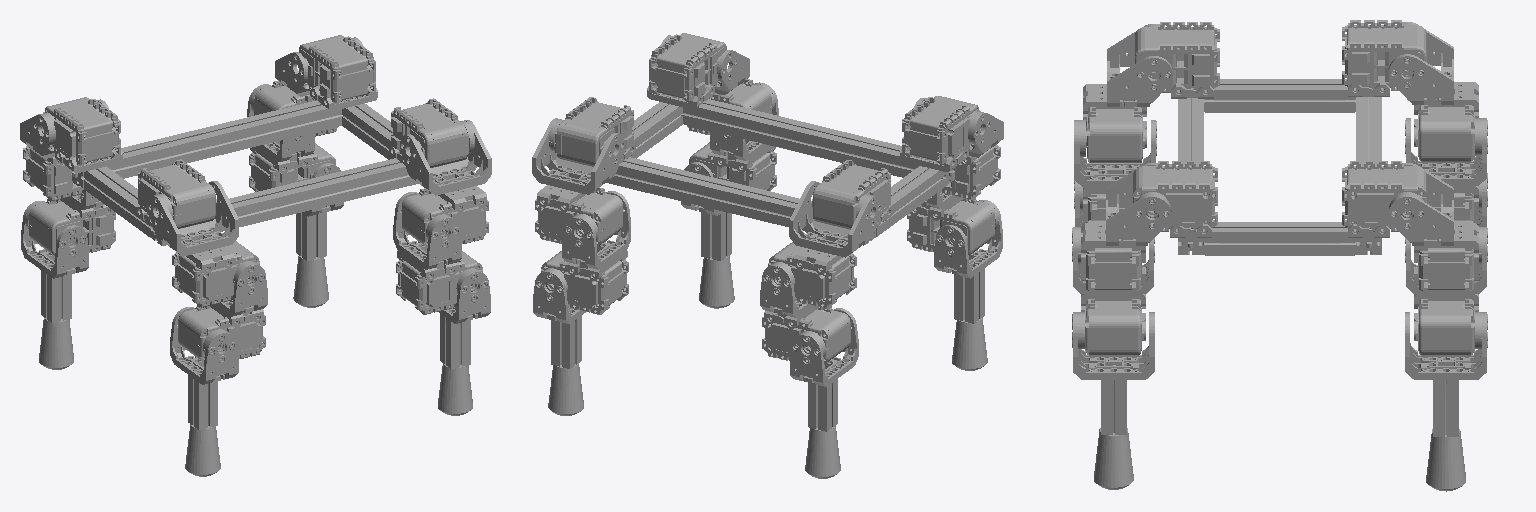
URDF robot description (sparky6):
<?xml version="1.0" encoding="utf-8"?>
<!-- =================================================================================== -->
<!-- |    This document was autogenerated by xacro from sparky6.xacro                  | -->
<!-- |    EDITING THIS FILE BY HAND IS NOT RECOMMENDED                                 | -->
<!-- =================================================================================== -->
<robot name="sparky6">
  <material name="silver">
    <color rgba="0.700 0.700 0.700 1.000"/>
  </material>
  <transmission name="rf1_tran">
    <type>transmission_interface/SimpleTransmission</type>
    <joint name="rf1">
      <hardwareInterface>hardware_interface/EffortJointInterface</hardwareInterface>
    </joint>
    <actuator name="rf1_actr">
      <hardwareInterface>hardware_interface/EffortJointInterface</hardwareInterface>
      <mechanicalReduction>1</mechanicalReduction>
    </actuator>
  </transmission>
  <transmission name="rf2_tran">
    <type>transmission_interface/SimpleTransmission</type>
    <joint name="rf2">
      <hardwareInterface>hardware_interface/EffortJointInterface</hardwareInterface>
    </joint>
    <actuator name="rf2_actr">
      <hardwareInterface>hardware_interface/EffortJointInterface</hardwareInterface>
      <mechanicalReduction>1</mechanicalReduction>
    </actuator>
  </transmission>
  <transmission name="rf3_tran">
    <type>transmission_interface/SimpleTransmission</type>
    <joint name="rf3">
      <hardwareInterface>hardware_interface/EffortJointInterface</hardwareInterface>
    </joint>
    <actuator name="rf3_actr">
      <hardwareInterface>hardware_interface/EffortJointInterface</hardwareInterface>
      <mechanicalReduction>1</mechanicalReduction>
    </actuator>
  </transmission>
  <transmission name="lf1_tran">
    <type>transmission_interface/SimpleTransmission</type>
    <joint name="lf1">
      <hardwareInterface>hardware_interface/EffortJointInterface</hardwareInterface>
    </joint>
    <actuator name="lf1_actr">
      <hardwareInterface>hardware_interface/EffortJointInterface</hardwareInterface>
      <mechanicalReduction>1</mechanicalReduction>
    </actuator>
  </transmission>
  <transmission name="lf2_tran">
    <type>transmission_interface/SimpleTransmission</type>
    <joint name="lf2">
      <hardwareInterface>hardware_interface/EffortJointInterface</hardwareInterface>
    </joint>
    <actuator name="lf2_actr">
      <hardwareInterface>hardware_interface/EffortJointInterface</hardwareInterface>
      <mechanicalReduction>1</mechanicalReduction>
    </actuator>
  </transmission>
  <transmission name="lf3_tran">
    <type>transmission_interface/SimpleTransmission</type>
    <joint name="lf3">
      <hardwareInterface>hardware_interface/EffortJointInterface</hardwareInterface>
    </joint>
    <actuator name="lf3_actr">
      <hardwareInterface>hardware_interface/EffortJointInterface</hardwareInterface>
      <mechanicalReduction>1</mechanicalReduction>
    </actuator>
  </transmission>
  <transmission name="rh1_tran">
    <type>transmission_interface/SimpleTransmission</type>
    <joint name="rh1">
      <hardwareInterface>hardware_interface/EffortJointInterface</hardwareInterface>
    </joint>
    <actuator name="rh1_actr">
      <hardwareInterface>hardware_interface/EffortJointInterface</hardwareInterface>
      <mechanicalReduction>1</mechanicalReduction>
    </actuator>
  </transmission>
  <transmission name="rh2_tran">
    <type>transmission_interface/SimpleTransmission</type>
    <joint name="rh2">
      <hardwareInterface>hardware_interface/EffortJointInterface</hardwareInterface>
    </joint>
    <actuator name="rh2_actr">
      <hardwareInterface>hardware_interface/EffortJointInterface</hardwareInterface>
      <mechanicalReduction>1</mechanicalReduction>
    </actuator>
  </transmission>
  <transmission name="rh3_tran">
    <type>transmission_interface/SimpleTransmission</type>
    <joint name="rh3">
      <hardwareInterface>hardware_interface/EffortJointInterface</hardwareInterface>
    </joint>
    <actuator name="rh3_actr">
      <hardwareInterface>hardware_interface/EffortJointInterface</hardwareInterface>
      <mechanicalReduction>1</mechanicalReduction>
    </actuator>
  </transmission>
  <transmission name="lh1_tran">
    <type>transmission_interface/SimpleTransmission</type>
    <joint name="lh1">
      <hardwareInterface>hardware_interface/EffortJointInterface</hardwareInterface>
    </joint>
    <actuator name="lh1_actr">
      <hardwareInterface>hardware_interface/EffortJointInterface</hardwareInterface>
      <mechanicalReduction>1</mechanicalReduction>
    </actuator>
  </transmission>
  <transmission name="lh2_tran">
    <type>transmission_interface/SimpleTransmission</type>
    <joint name="lh2">
      <hardwareInterface>hardware_interface/EffortJointInterface</hardwareInterface>
    </joint>
    <actuator name="lh2_actr">
      <hardwareInterface>hardware_interface/EffortJointInterface</hardwareInterface>
      <mechanicalReduction>1</mechanicalReduction>
    </actuator>
  </transmission>
  <transmission name="lh3_tran">
    <type>transmission_interface/SimpleTransmission</type>
    <joint name="lh3">
      <hardwareInterface>hardware_interface/EffortJointInterface</hardwareInterface>
    </joint>
    <actuator name="lh3_actr">
      <hardwareInterface>hardware_interface/EffortJointInterface</hardwareInterface>
      <mechanicalReduction>1</mechanicalReduction>
    </actuator>
  </transmission>
  <gazebo>
    <plugin filename="libgazebo_ros_control.so" name="control"/>
  </gazebo>
  <gazebo reference="base_link">
    <material>Gazebo/Silver</material>
    <gravity>true</gravity>
  </gazebo>
  <gazebo reference="rf_hip_1">
    <material>Gazebo/Silver</material>
    <selfCollide>true</selfCollide>
  </gazebo>
  <gazebo reference="rf_upper_1">
    <material>Gazebo/Silver</material>
    <selfCollide>true</selfCollide>
  </gazebo>
  <gazebo reference="rf_lower_1">
    <material>Gazebo/Silver</material>
    <mu1>0.9</mu1>
    <mu2>0.9</mu2>
    <minDepth>0.001</minDepth>
    <selfCollide>true</selfCollide>
  </gazebo>
  <gazebo reference="lf_hip_1">
    <material>Gazebo/Silver</material>
  </gazebo>
  <gazebo reference="lf_upper_1">
    <material>Gazebo/Silver</material>
  </gazebo>
  <gazebo reference="lf_lower_1">
    <material>Gazebo/Silver</material>
    <mu1>0.9</mu1>
    <mu2>0.9</mu2>
    <minDepth>0.001</minDepth>
    <selfCollide>true</selfCollide>
  </gazebo>
  <gazebo reference="rh_hip_1">
    <material>Gazebo/Silver</material>
  </gazebo>
  <gazebo reference="rh_upper_1">
    <material>Gazebo/Silver</material>
  </gazebo>
  <gazebo reference="rh_lower_1">
    <material>Gazebo/Silver</material>
    <mu1>0.9</mu1>
    <mu2>0.9</mu2>
    <minDepth>0.001</minDepth>
    <selfCollide>true</selfCollide>
  </gazebo>
  <gazebo reference="lh_hip_1">
    <material>Gazebo/Silver</material>
  </gazebo>
  <gazebo reference="lh_upper_1">
    <material>Gazebo/Silver</material>
  </gazebo>
  <gazebo reference="lh_lower_1">
    <material>Gazebo/Silver</material>
    <mu1>0.9</mu1>
    <mu2>0.9</mu2>
    <minDepth>0.001</minDepth>
    <selfCollide>true</selfCollide>
  </gazebo>
  <link name="base_link">
    <inertial>
      <origin rpy="0 0 0" xyz="7.299055908234209e-06 -4.907460487480364e-05 0.008379944472130002"/>
      <mass value="0.29530745125532065"/>
      <inertia ixx="0.001007" ixy="1.1e-05" ixz="-1e-06" iyy="0.002439" iyz="-0.0" izz="0.003326"/>
    </inertial>
    <visual>
      <origin rpy="0 0 0" xyz="0 0 0"/>
      <geometry>
        <mesh filename="package://sparky6_description/meshes/base_link.stl" scale="0.001 0.001 0.001"/>
      </geometry>
      <material name="silver"/>
    </visual>
    <collision>
      <origin rpy="0 0 0" xyz="0 0 0"/>
      <geometry>
        <mesh filename="package://sparky6_description/meshes/base_link.stl" scale="0.001 0.001 0.001"/>
      </geometry>
    </collision>
  </link>
  <link name="rf_hip_1">
    <inertial>
      <origin rpy="0 0 0" xyz="-0.020504591046096754 -0.020916720968156957 -0.035571117115763856"/>
      <mass value="0.05388908972741452"/>
      <inertia ixx="1.8e-05" ixy="-1e-06" ixz="-3e-06" iyy="2.3e-05" iyz="-4e-06" izz="1.9e-05"/>
    </inertial>
    <visual>
      <origin rpy="0 0 0" xyz="-0.111298 0.075143 -0.019615"/>
      <geometry>
        <mesh filename="package://sparky6_description/meshes/rf_hip_1.stl" scale="0.001 0.001 0.001"/>
      </geometry>
      <material name="silver"/>
    </visual>
    <collision>
      <origin rpy="0 0 0" xyz="-0.111298 0.075143 -0.019615"/>
      <geometry>
        <mesh filename="package://sparky6_description/meshes/rf_hip_1.stl" scale="0.001 0.001 0.001"/>
      </geometry>
    </collision>
  </link>
  <link name="rf_upper_1">
    <inertial>
      <origin rpy="0 0 0" xyz="0.007395927338858896 0.01297355912901861 -0.03891819141199494"/>
      <mass value="0.0527957388945323"/>
      <inertia ixx="1.8e-05" ixy="-0.0" ixz="2e-06" iyy="2e-05" iyz="1e-06" izz="1.6e-05"/>
    </inertial>
    <visual>
      <origin rpy="0 0 0" xyz="-0.075104 0.111743 0.022385"/>
      <geometry>
        <mesh filename="package://sparky6_description/meshes/rf_upper_1.stl" scale="0.001 0.001 0.001"/>
      </geometry>
      <material name="silver"/>
    </visual>
    <collision>
      <origin rpy="0 0 0" xyz="-0.075104 0.111743 0.022385"/>
      <geometry>
        <mesh filename="package://sparky6_description/meshes/rf_upper_1.stl" scale="0.001 0.001 0.001"/>
      </geometry>
    </collision>
  </link>
  <link name="rf_lower_1">
    <inertial>
      <origin rpy="0 0 0" xyz="-0.0007002370548039455 0.012844858668187659 -0.052271117977042425"/>
      <mass value="0.02761962493772662"/>
      <inertia ixx="3.2e-05" ixy="0.0" ixz="-0.0" iyy="3e-05" iyz="1e-06" izz="4e-06"/>
    </inertial>
    <visual>
      <origin rpy="0 0 0" xyz="-0.097604 0.11165 0.067385"/>
      <geometry>
        <mesh filename="package://sparky6_description/meshes/rf_lower_1.stl" scale="0.001 0.001 0.001"/>
      </geometry>
      <material name="silver"/>
    </visual>
    <collision>
      <origin rpy="0 0 0" xyz="-0.097604 0.11165 0.067385"/>
      <geometry>
        <mesh filename="package://sparky6_description/meshes/rf_lower_1.stl" scale="0.001 0.001 0.001"/>
      </geometry>
    </collision>
  </link>
  <link name="lf_hip_1">
    <inertial>
      <origin rpy="0 0 0" xyz="-0.020504590999523772 0.020917069609504638 -0.035571116932230584"/>
      <mass value="0.05388908979068711"/>
      <inertia ixx="1.8e-05" ixy="1e-06" ixz="-3e-06" iyy="2.3e-05" iyz="4e-06" izz="1.9e-05"/>
    </inertial>
    <visual>
      <origin rpy="0 0 0" xyz="-0.111298 -0.074744 -0.019615"/>
      <geometry>
        <mesh filename="package://sparky6_description/meshes/lf_hip_1.stl" scale="0.001 0.001 0.001"/>
      </geometry>
      <material name="silver"/>
    </visual>
    <collision>
      <origin rpy="0 0 0" xyz="-0.111298 -0.074744 -0.019615"/>
      <geometry>
        <mesh filename="package://sparky6_description/meshes/lf_hip_1.stl" scale="0.001 0.001 0.001"/>
      </geometry>
    </collision>
  </link>
  <link name="lf_upper_1">
    <inertial>
      <origin rpy="0 0 0" xyz="0.007395909911934839 -0.012974204347680082 -0.03891809893494623"/>
      <mass value="0.05279586200500898"/>
      <inertia ixx="1.8e-05" ixy="0.0" ixz="2e-06" iyy="2e-05" iyz="-1e-06" izz="1.6e-05"/>
    </inertial>
    <visual>
      <origin rpy="0 0 0" xyz="-0.075104 -0.111345 0.022385"/>
      <geometry>
        <mesh filename="package://sparky6_description/meshes/lf_upper_1.stl" scale="0.001 0.001 0.001"/>
      </geometry>
      <material name="silver"/>
    </visual>
    <collision>
      <origin rpy="0 0 0" xyz="-0.075104 -0.111345 0.022385"/>
      <geometry>
        <mesh filename="package://sparky6_description/meshes/lf_upper_1.stl" scale="0.001 0.001 0.001"/>
      </geometry>
    </collision>
  </link>
  <link name="lf_lower_1">
    <inertial>
      <origin rpy="0 0 0" xyz="0.000700770909144055 -0.01284450998542723 -0.05227111797704169"/>
      <mass value="0.02761962493772662"/>
      <inertia ixx="3.2e-05" ixy="0.0" ixz="0.0" iyy="3e-05" iyz="-1e-06" izz="4e-06"/>
    </inertial>
    <visual>
      <origin rpy="0 0 0" xyz="-0.097604 -0.111251 0.067385"/>
      <geometry>
        <mesh filename="package://sparky6_description/meshes/lf_lower_1.stl" scale="0.001 0.001 0.001"/>
      </geometry>
      <material name="silver"/>
    </visual>
    <collision>
      <origin rpy="0 0 0" xyz="-0.097604 -0.111251 0.067385"/>
      <geometry>
        <mesh filename="package://sparky6_description/meshes/lf_lower_1.stl" scale="0.001 0.001 0.001"/>
      </geometry>
    </collision>
  </link>
  <link name="rh_hip_1">
    <inertial>
      <origin rpy="0 0 0" xyz="0.020504349543890577 -0.02091666919420533 -0.03557111693223084"/>
      <mass value="0.05388908979068711"/>
      <inertia ixx="1.8e-05" ixy="1e-06" ixz="3e-06" iyy="2.3e-05" iyz="-4e-06" izz="1.9e-05"/>
    </inertial>
    <visual>
      <origin rpy="0 0 0" xyz="0.109652 0.07416 -0.019615"/>
      <geometry>
        <mesh filename="package://sparky6_description/meshes/rh_hip_1.stl" scale="0.001 0.001 0.001"/>
      </geometry>
      <material name="silver"/>
    </visual>
    <collision>
      <origin rpy="0 0 0" xyz="0.109652 0.07416 -0.019615"/>
      <geometry>
        <mesh filename="package://sparky6_description/meshes/rh_hip_1.stl" scale="0.001 0.001 0.001"/>
      </geometry>
    </collision>
  </link>
  <link name="rh_upper_1">
    <inertial>
      <origin rpy="0 0 0" xyz="-0.007395151367566591 0.012973604762980623 -0.03891809893494652"/>
      <mass value="0.05279586200500898"/>
      <inertia ixx="1.8e-05" ixy="0.0" ixz="-2e-06" iyy="2e-05" iyz="1e-06" izz="1.6e-05"/>
    </inertial>
    <visual>
      <origin rpy="0 0 0" xyz="0.073459 0.11076 0.022385"/>
      <geometry>
        <mesh filename="package://sparky6_description/meshes/rh_upper_1.stl" scale="0.001 0.001 0.001"/>
      </geometry>
      <material name="silver"/>
    </visual>
    <collision>
      <origin rpy="0 0 0" xyz="0.073459 0.11076 0.022385"/>
      <geometry>
        <mesh filename="package://sparky6_description/meshes/rh_upper_1.stl" scale="0.001 0.001 0.001"/>
      </geometry>
    </collision>
  </link>
  <link name="rh_lower_1">
    <inertial>
      <origin rpy="0 0 0" xyz="-0.0007000123647771528 0.012844910400728604 -0.05227111797704198"/>
      <mass value="0.02761962493772662"/>
      <inertia ixx="3.2e-05" ixy="0.0" ixz="-0.0" iyy="3e-05" iyz="1e-06" izz="4e-06"/>
    </inertial>
    <visual>
      <origin rpy="0 0 0" xyz="0.095959 0.110667 0.067385"/>
      <geometry>
        <mesh filename="package://sparky6_description/meshes/rh_lower_1.stl" scale="0.001 0.001 0.001"/>
      </geometry>
      <material name="silver"/>
    </visual>
    <collision>
      <origin rpy="0 0 0" xyz="0.095959 0.110667 0.067385"/>
      <geometry>
        <mesh filename="package://sparky6_description/meshes/rh_lower_1.stl" scale="0.001 0.001 0.001"/>
      </geometry>
    </collision>
  </link>
  <link name="lh_hip_1">
    <inertial>
      <origin rpy="0 0 0" xyz="0.020504324900517096 0.020916111095980364 -0.03557111711576425"/>
      <mass value="0.05388908972741452"/>
      <inertia ixx="1.8e-05" ixy="-1e-06" ixz="3e-06" iyy="2.3e-05" iyz="4e-06" izz="1.9e-05"/>
    </inertial>
    <visual>
      <origin rpy="0 0 0" xyz="0.111992 -0.074753 -0.019615"/>
      <geometry>
        <mesh filename="package://sparky6_description/meshes/lh_hip_1.stl" scale="0.001 0.001 0.001"/>
      </geometry>
      <material name="silver"/>
    </visual>
    <collision>
      <origin rpy="0 0 0" xyz="0.111992 -0.074753 -0.019615"/>
      <geometry>
        <mesh filename="package://sparky6_description/meshes/lh_hip_1.stl" scale="0.001 0.001 0.001"/>
      </geometry>
    </collision>
  </link>
  <link name="lh_upper_1">
    <inertial>
      <origin rpy="0 0 0" xyz="-0.007395193484439774 -0.01297416900119433 -0.03891819141199544"/>
      <mass value="0.0527957388945323"/>
      <inertia ixx="1.8e-05" ixy="-0.0" ixz="-2e-06" iyy="2e-05" iyz="-1e-06" izz="1.6e-05"/>
    </inertial>
    <visual>
      <origin rpy="0 0 0" xyz="0.075799 -0.111353 0.022385"/>
      <geometry>
        <mesh filename="package://sparky6_description/meshes/lh_upper_1.stl" scale="0.001 0.001 0.001"/>
      </geometry>
      <material name="silver"/>
    </visual>
    <collision>
      <origin rpy="0 0 0" xyz="0.075799 -0.111353 0.022385"/>
      <geometry>
        <mesh filename="package://sparky6_description/meshes/lh_upper_1.stl" scale="0.001 0.001 0.001"/>
      </geometry>
    </collision>
  </link>
  <link name="lh_lower_1">
    <inertial>
      <origin rpy="0 0 0" xyz="0.0007009709092222066 -0.012844468540364029 -0.052271117977042175"/>
      <mass value="0.02761962493772662"/>
      <inertia ixx="3.2e-05" ixy="0.0" ixz="0.0" iyy="3e-05" iyz="-1e-06" izz="4e-06"/>
    </inertial>
    <visual>
      <origin rpy="0 0 0" xyz="0.098299 -0.111259 0.067385"/>
      <geometry>
        <mesh filename="package://sparky6_description/meshes/lh_lower_1.stl" scale="0.001 0.001 0.001"/>
      </geometry>
      <material name="silver"/>
    </visual>
    <collision>
      <origin rpy="0 0 0" xyz="0.098299 -0.111259 0.067385"/>
      <geometry>
        <mesh filename="package://sparky6_description/meshes/lh_lower_1.stl" scale="0.001 0.001 0.001"/>
      </geometry>
    </collision>
  </link>


<joint name="rf1" type="revolute">
  <origin rpy="0 0 0" xyz="0.111298 -0.075143 0.019615"/>
  <parent link="base_link"/>
  <child link="rf_hip_1"/>
  <axis xyz="1.0 -0.0 -0.0"/>
  <limit effort="5" lower="-3.14159265359" upper="3.14159265359" velocity="5"/>
</joint>

<joint name="rf2" type="revolute">
  <origin rpy="0 0 0" xyz="-0.036194 -0.0366 -0.042"/>
  <parent link="rf_hip_1"/>
  <child link="rf_upper_1"/>
  <axis xyz="-0.0 1.0 -0.0"/>
  <limit effort="5" lower="-3.14159265359" upper="3.14159265359" velocity="5"/>
</joint>

<joint name="rf3" type="revolute">
  <origin rpy="0 0 0" xyz="0.0225 9.3e-05 -0.045"/>
  <parent link="rf_upper_1"/>
  <child link="rf_lower_1"/>
  <axis xyz="-0.0 1.0 0.0"/>
  <limit effort="5" lower="-3.14159265359" upper="3.14159265359" velocity="5"/>
</joint>

<joint name="lf1" type="revolute">
  <origin rpy="0 0 0" xyz="0.111298 0.074744 0.019615"/>
  <parent link="base_link"/>
  <child link="lf_hip_1"/>
  <axis xyz="1.0 -0.0 -0.0"/>
  <limit effort="5" lower="-3.14159265359" upper="3.14159265359" velocity="5"/>
</joint>

<joint name="lf2" type="revolute">
  <origin rpy="0 0 0" xyz="-0.036194 0.036601 -0.042"/>
  <parent link="lf_hip_1"/>
  <child link="lf_upper_1"/>
  <axis xyz="-0.0 1.0 -0.0"/>
  <limit effort="5" lower="-3.14159265359" upper="3.14159265359" velocity="5"/>
</joint>

<joint name="lf3" type="revolute">
  <origin rpy="0 0 0" xyz="0.0225 -9.4e-05 -0.045"/>
  <parent link="lf_upper_1"/>
  <child link="lf_lower_1"/>
  <axis xyz="-0.0 1.0 -0.0"/>
  <limit effort="5" lower="-3.14159265359" upper="3.14159265359" velocity="5"/>
</joint>

<joint name="rh1" type="revolute">
  <origin rpy="0 0 0" xyz="-0.109652 -0.07416 0.019615"/>
  <parent link="base_link"/>
  <child link="rh_hip_1"/>
  <axis xyz="1.0 0.0 0.0"/>
  <limit effort="5" lower="-3.14159265359" upper="3.14159265359" velocity="5"/>
</joint>

<joint name="rh2" type="revolute">
  <origin rpy="0 0 0" xyz="0.036193 -0.0366 -0.042"/>
  <parent link="rh_hip_1"/>
  <child link="rh_upper_1"/>
  <axis xyz="0.0 1.0 -0.0"/>
  <limit effort="5" lower="-3.14159265359" upper="3.14159265359" velocity="5"/>
</joint>

<joint name="rh3" type="revolute">
  <origin rpy="0 0 0" xyz="-0.0225 9.3e-05 -0.045"/>
  <parent link="rh_upper_1"/>
  <child link="rh_lower_1"/>
  <axis xyz="0.0 1.0 -0.0"/>
  <limit effort="5" lower="-3.14159265359" upper="3.14159265359" velocity="5"/>
</joint>

<joint name="lh1" type="revolute">
  <origin rpy="0 0 0" xyz="-0.111992 0.074753 0.019615"/>
  <parent link="base_link"/>
  <child link="lh_hip_1"/>
  <axis xyz="1.0 0.0 0.0"/>
  <limit effort="5" lower="-3.14159265359" upper="3.14159265359" velocity="5"/>
</joint>

<joint name="lh2" type="revolute">
  <origin rpy="0 0 0" xyz="0.036193 0.0366 -0.042"/>
  <parent link="lh_hip_1"/>
  <child link="lh_upper_1"/>
  <axis xyz="0.0 1.0 -0.0"/>
  <limit effort="5" lower="-3.14159265359" upper="3.14159265359" velocity="5"/>
</joint>

<joint name="lh3" type="revolute">
  <origin rpy="0 0 0" xyz="-0.0225 -9.4e-05 -0.045"/>
  <parent link="lh_upper_1"/>
  <child link="lh_lower_1"/>
  <axis xyz="0.0 1.0 -0.0"/>
  <limit effort="5" lower="-3.14159265359" upper="3.14159265359" velocity="5"/>
</joint>
  <!--feet tf for champ quadruped setup-->
  <link name="rf_foot"/>
  <joint name="rf_foot_to_lower_leg" type="fixed">
    <parent link="rf_lower_1"/>
    <child link="rf_foot"/>
    <origin rpy="0 0 0" xyz="0 .014 -.1025"/>
  </joint>
  <link name="lf_foot"/>
  <joint name="lf_foot_to_lower_leg" type="fixed">
    <parent link="lf_lower_1"/>
    <child link="lf_foot"/>
    <origin rpy="0 0 0" xyz="0 -.014 -.1025"/>
  </joint>
  <link name="rh_foot"/>
  <joint name="rh_foot_to_lower_leg" type="fixed">
    <parent link="rh_lower_1"/>
    <child link="rh_foot"/>
    <origin rpy="0 0 0" xyz="0 .014 -.1025"/>
  </joint>
  <link name="lh_foot"/>
  <joint name="lh_foot_to_lower_leg" type="fixed">
    <parent link="lh_lower_1"/>
    <child link="lh_foot"/>
    <origin rpy="0 0 0" xyz="0 -.014 -.1025"/>
  </joint>
</robot>

--- What the picture shows (computed from the rendered views, not written in the file) ---
Views: 3 orthographic renders of the robot side by side, from view 1: azimuth 30°, elevation 25°; view 2: azimuth 150°, elevation 25°; view 3: azimuth 270°, elevation 25°.
Robot: sparky6 — 17 links, 16 joints (12 revolute, 4 fixed); root link base_link; default pose: all joints at 0.
Visible links, largest first — view 1: base_link, rh_hip_1, rf_hip_1, rf_upper_1, rh_lower_1, lh_lower_1, rh_upper_1, rf_lower_1, lh_upper_1, lf_upper_1, lf_lower_1, lh_hip_1 (+1 smaller); view 2: base_link, lh_hip_1, lf_hip_1, lf_upper_1, lh_lower_1, rh_lower_1, lh_upper_1, lf_lower_1, rh_upper_1, rf_upper_1, rf_lower_1, rh_hip_1 (+1 smaller); view 3: base_link, lh_hip_1, rh_hip_1, rf_hip_1, lf_hip_1, lf_lower_1, rf_lower_1, rf_upper_1, lf_upper_1, lh_upper_1, rh_upper_1.
Boxes of the visible links, <box> form: base_link: <box>43,35,468,245</box>; rh_hip_1: <box>148,181,259,307</box>; rf_hip_1: <box>400,120,491,247</box>; rf_upper_1: <box>393,192,482,314</box>; rh_lower_1: <box>170,307,238,476</box>; lh_lower_1: <box>21,201,88,369</box>; rh_upper_1: <box>178,261,267,361</box>; rf_lower_1: <box>438,268,490,415</box>; lh_upper_1: <box>29,190,115,255</box>; lf_upper_1: <box>247,84,335,191</box>; lf_lower_1: <box>293,163,343,307</box>; lh_hip_1: <box>20,99,108,200</box>; base_link: <box>555,33,980,245</box>; lh_hip_1: <box>768,181,880,308</box>; lf_hip_1: <box>532,118,624,246</box>; lf_upper_1: <box>541,191,630,314</box>; lh_lower_1: <box>790,308,858,478</box>; rh_lower_1: <box>934,200,1002,370</box>; lh_upper_1: <box>760,262,850,363</box>; lf_lower_1: <box>533,268,585,415</box>; rh_upper_1: <box>907,191,994,254</box>; rf_upper_1: <box>689,82,778,190</box>; rf_lower_1: <box>681,162,734,308</box>; rh_hip_1: <box>914,98,1003,199</box>; base_link: <box>1133,20,1426,255</box>; lh_hip_1: <box>1389,22,1478,161</box>; rh_hip_1: <box>1083,24,1172,162</box>; rf_hip_1: <box>1081,163,1170,293</box>; lf_hip_1: <box>1389,163,1478,293</box>; lf_lower_1: <box>1405,312,1487,491</box>; rf_lower_1: <box>1072,312,1154,489</box>; rf_upper_1: <box>1072,227,1154,355</box>; lf_upper_1: <box>1405,227,1487,355</box>; lh_upper_1: <box>1405,118,1487,225</box>; rh_upper_1: <box>1074,120,1156,223</box>.
Size in the robot's own frame: 0.2444 by 0.2445 by 0.2052 metres.
13 mesh visuals loaded from 13 distinct referenced files (13 binary STL).
